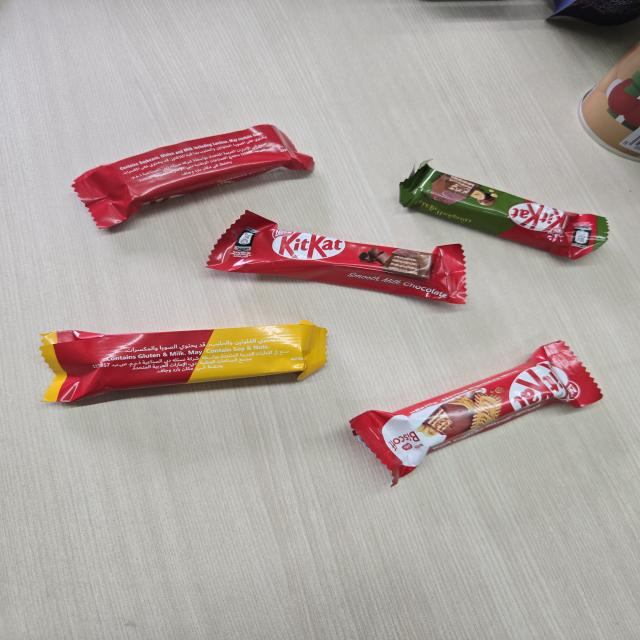chocolate-bar: (347, 334, 612, 488), (69, 119, 321, 238), (204, 204, 470, 304), (36, 316, 328, 406), (396, 158, 620, 266)
